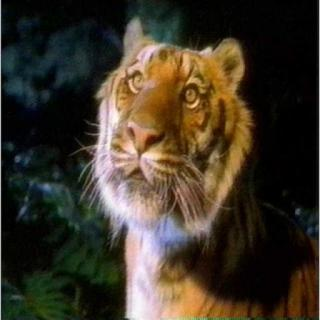Tiger: (83, 10, 320, 320)
